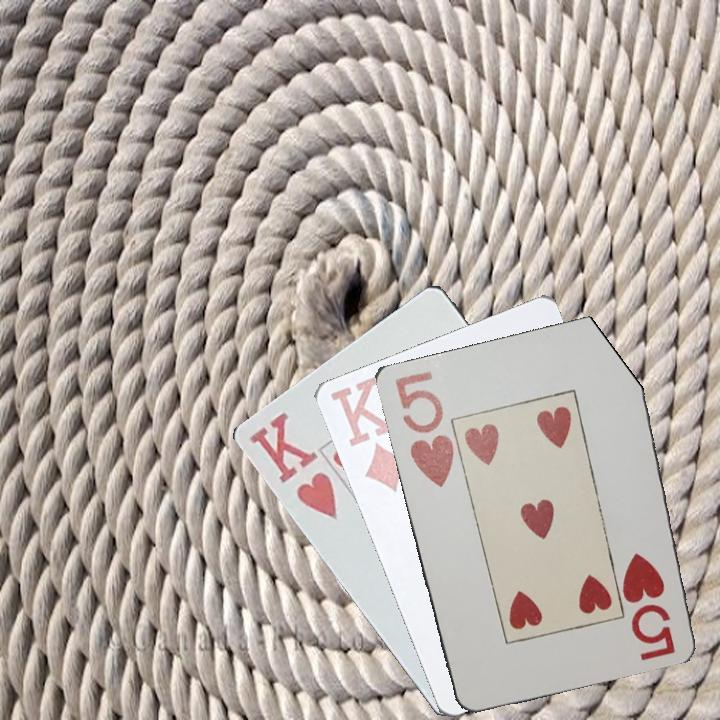5h: (390, 367, 456, 490), (622, 549, 678, 661)
Kd: (326, 374, 408, 496)
Kh: (245, 408, 341, 523)
